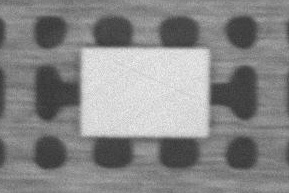DIE_CRACK: (169, 41, 289, 65)
